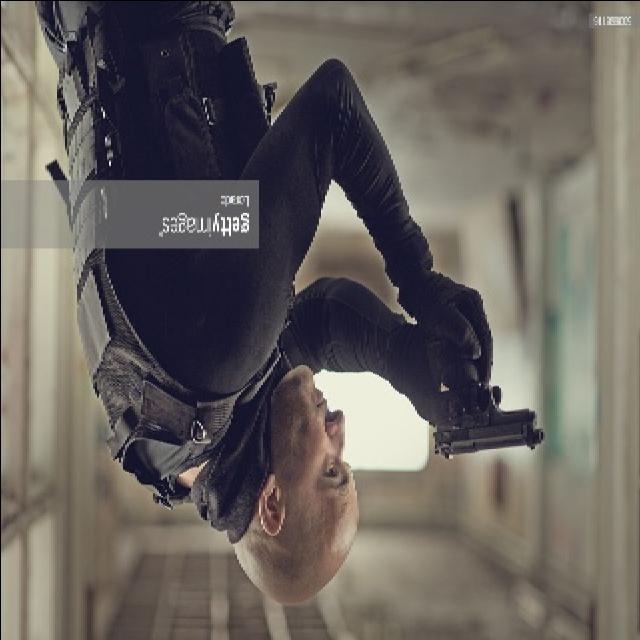handgun: (427, 371, 553, 462)
